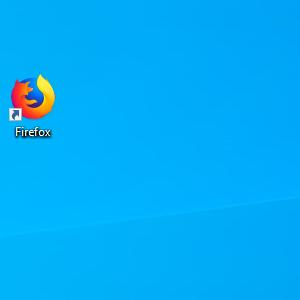firefox: (8, 73, 56, 122)
